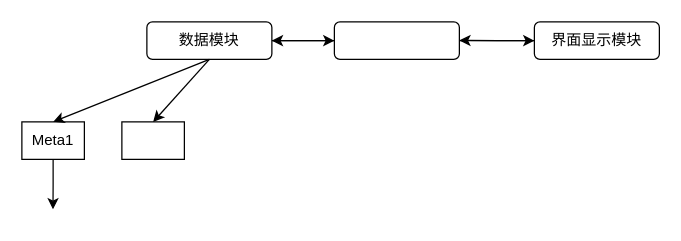
The diagram is 681 pixels wide and 241 high, and some of its shapes have lost their labels. The shapes that lost their labels are listed below. From the top down, each one's centre as x and y in pixels, then its label:
the point at 396,40: 数据操作模块
the point at 152,140: Meta2
